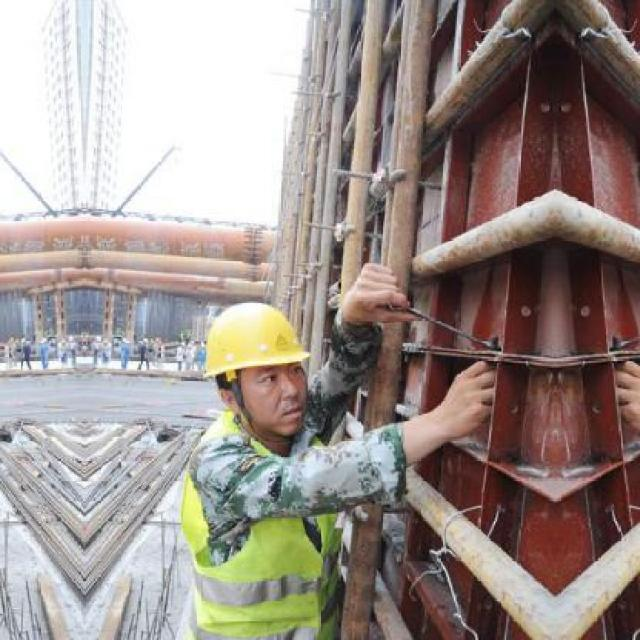reflective_jacket: (176, 410, 341, 639)
safety_helmet: (195, 294, 315, 383)
